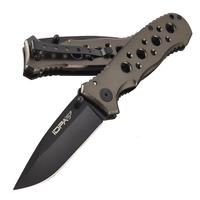knife: (11, 3, 190, 196)
